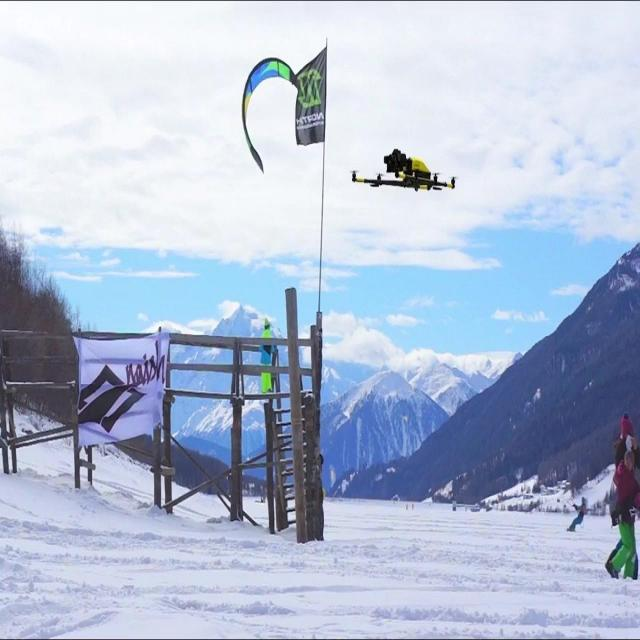UAV: (350, 148, 458, 192)
